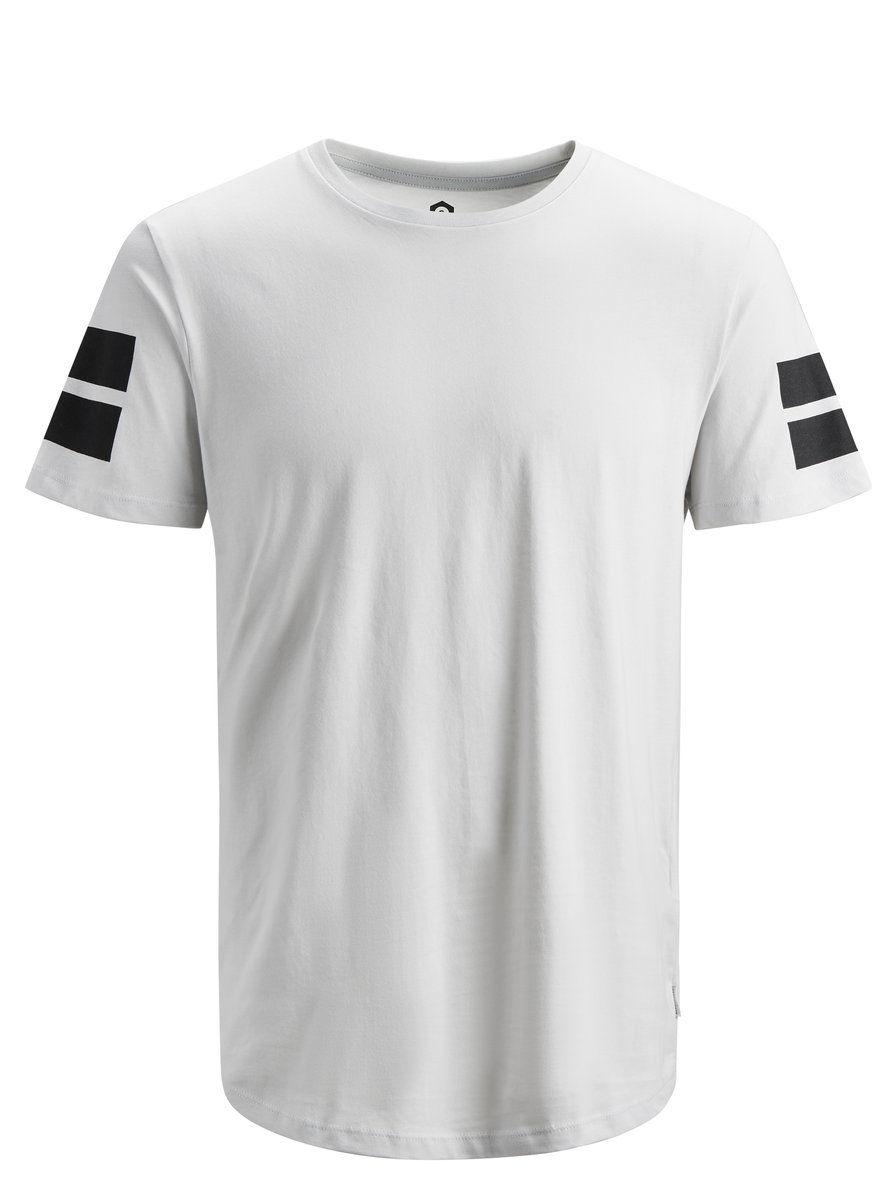teeshirt: (8, 8, 888, 1192)
